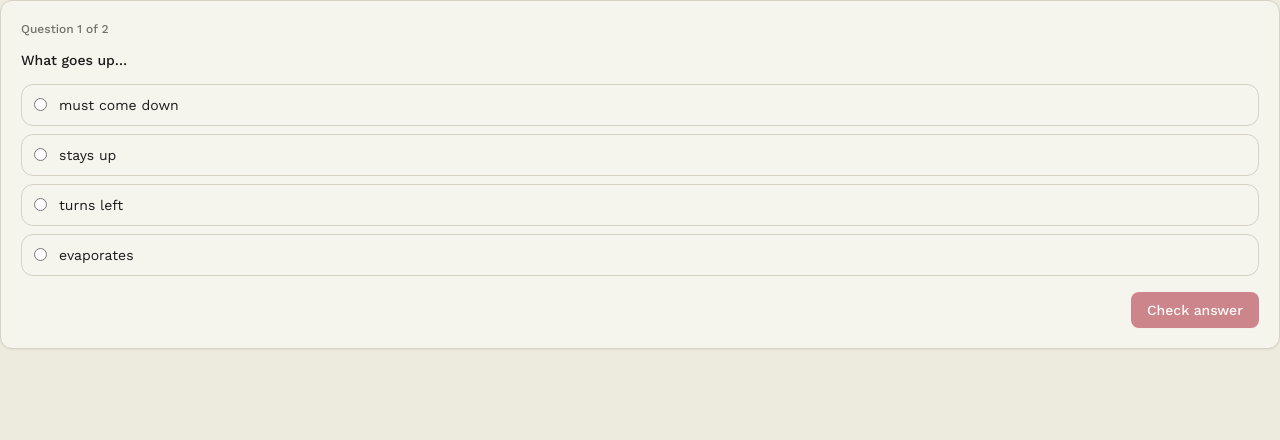
QuizPlayer › gives correct feedback and explanation for a right MCQ answer
Click the radio button labelled "must come down".
click(40, 105)  # box [34, 98, 47, 111]
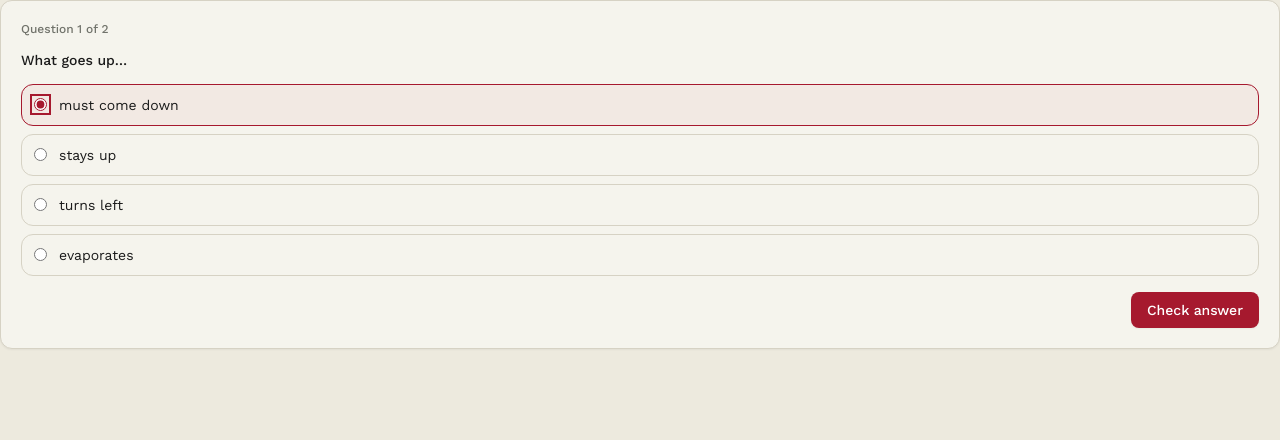
Click the button "Check answer".
click(1195, 310)  # box [1131, 292, 1259, 328]
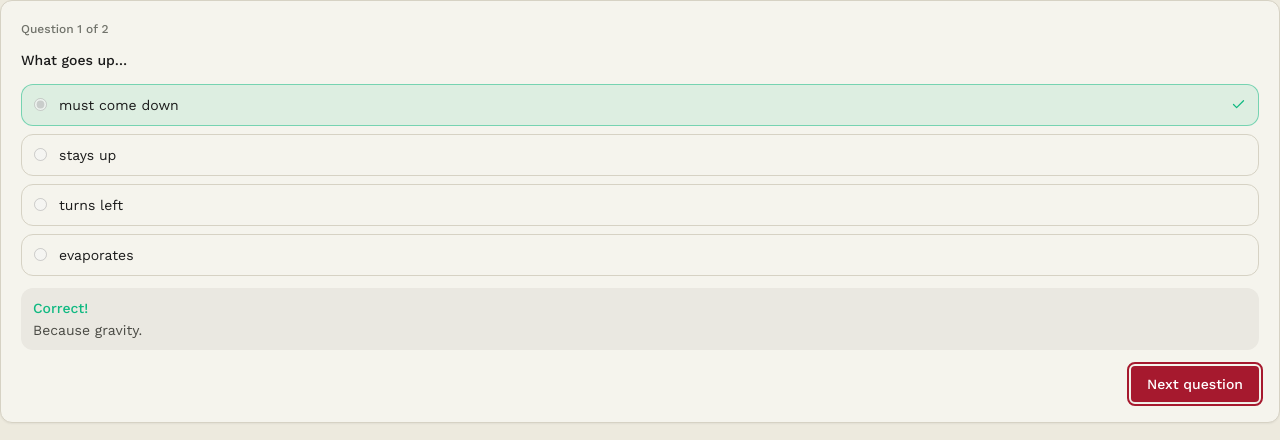
Result: the text "Correct!" is shown at [33, 300, 88, 316]
Result: the text "Because gravity." is shown at [33, 322, 142, 338]
